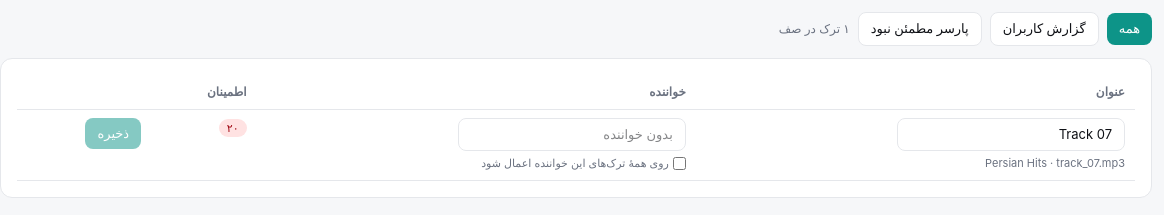
metadata review queue › fixes one track
Step 1. Type "معین" into the field named "خواننده 11" → (572,134), box x1=458 y1=118 x2=686 y2=151
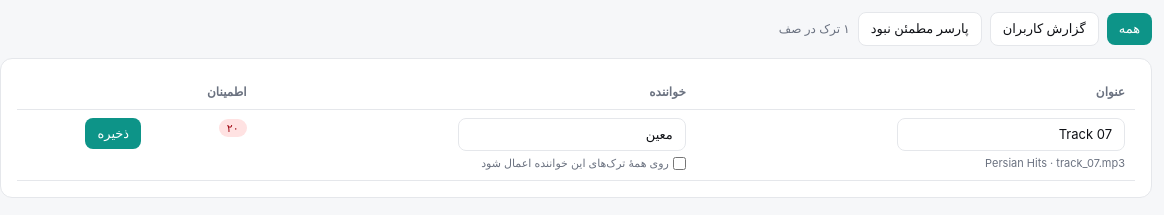
Step 2. Click the button "ذخیره" → (113,133), box x1=85 y1=118 x2=141 y2=149
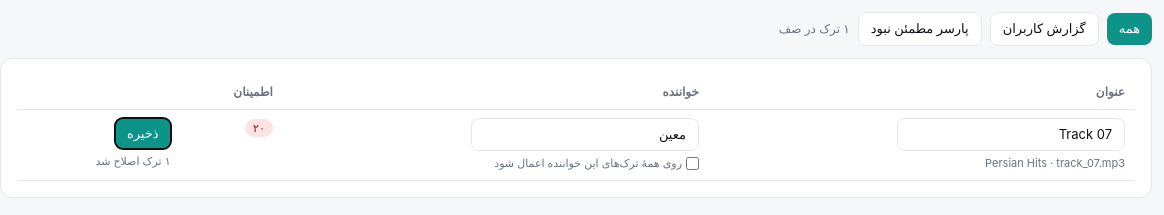
Result: the text "۱ ترک اصلاح شد" is shown at x1=95 y1=154 x2=171 y2=168
